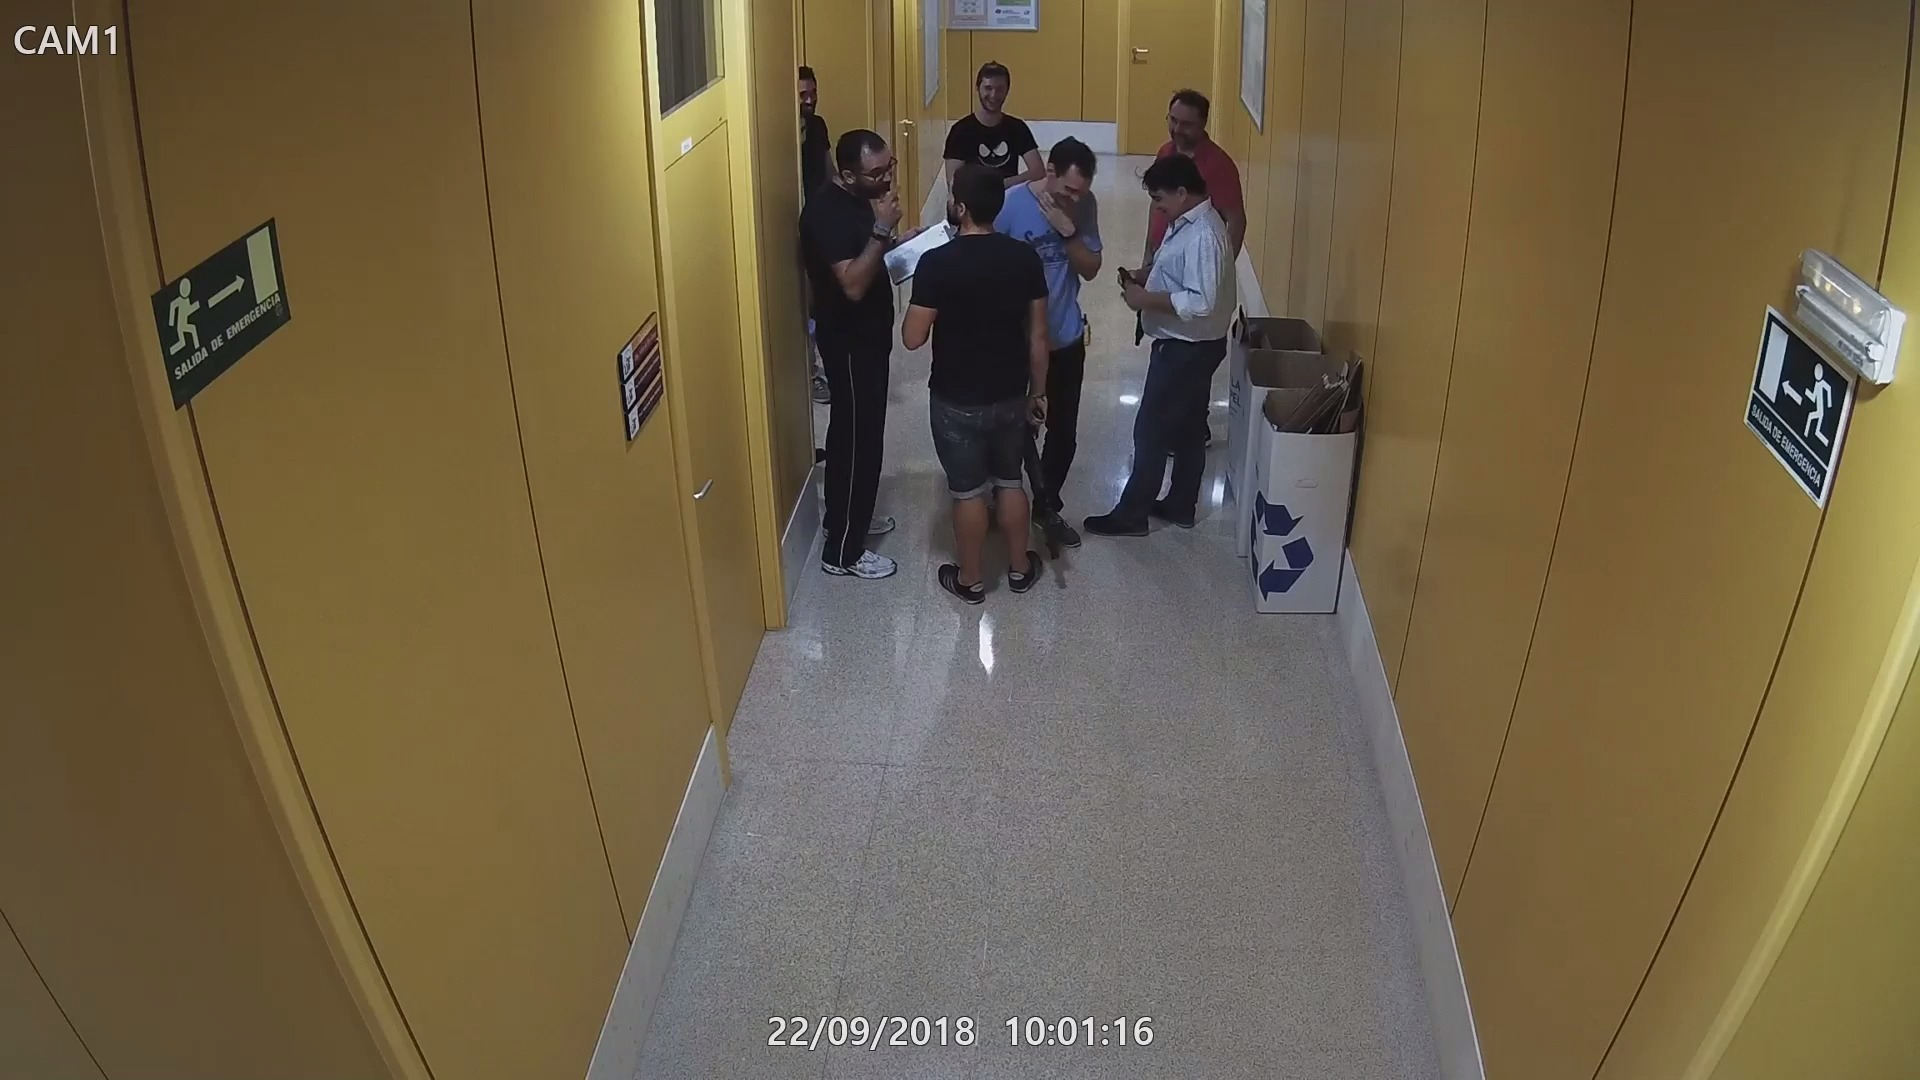pistol: (1114, 261, 1141, 305)
rifle: (1021, 400, 1065, 560)
